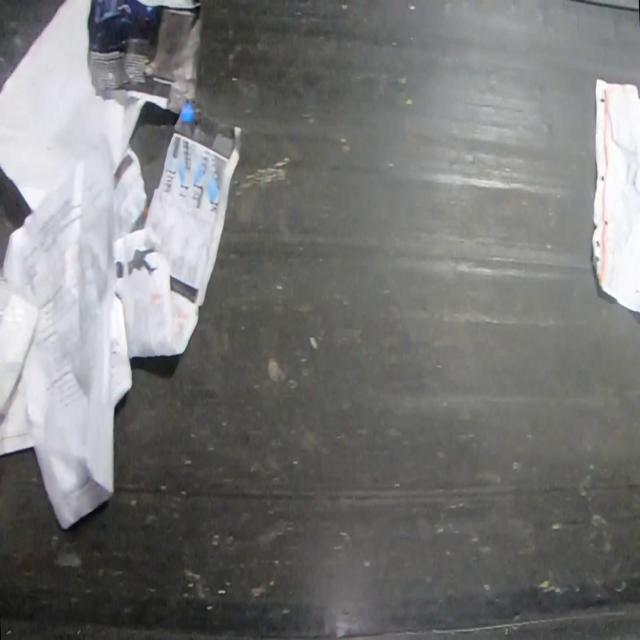soft_plastic: (0, 276, 41, 426)
